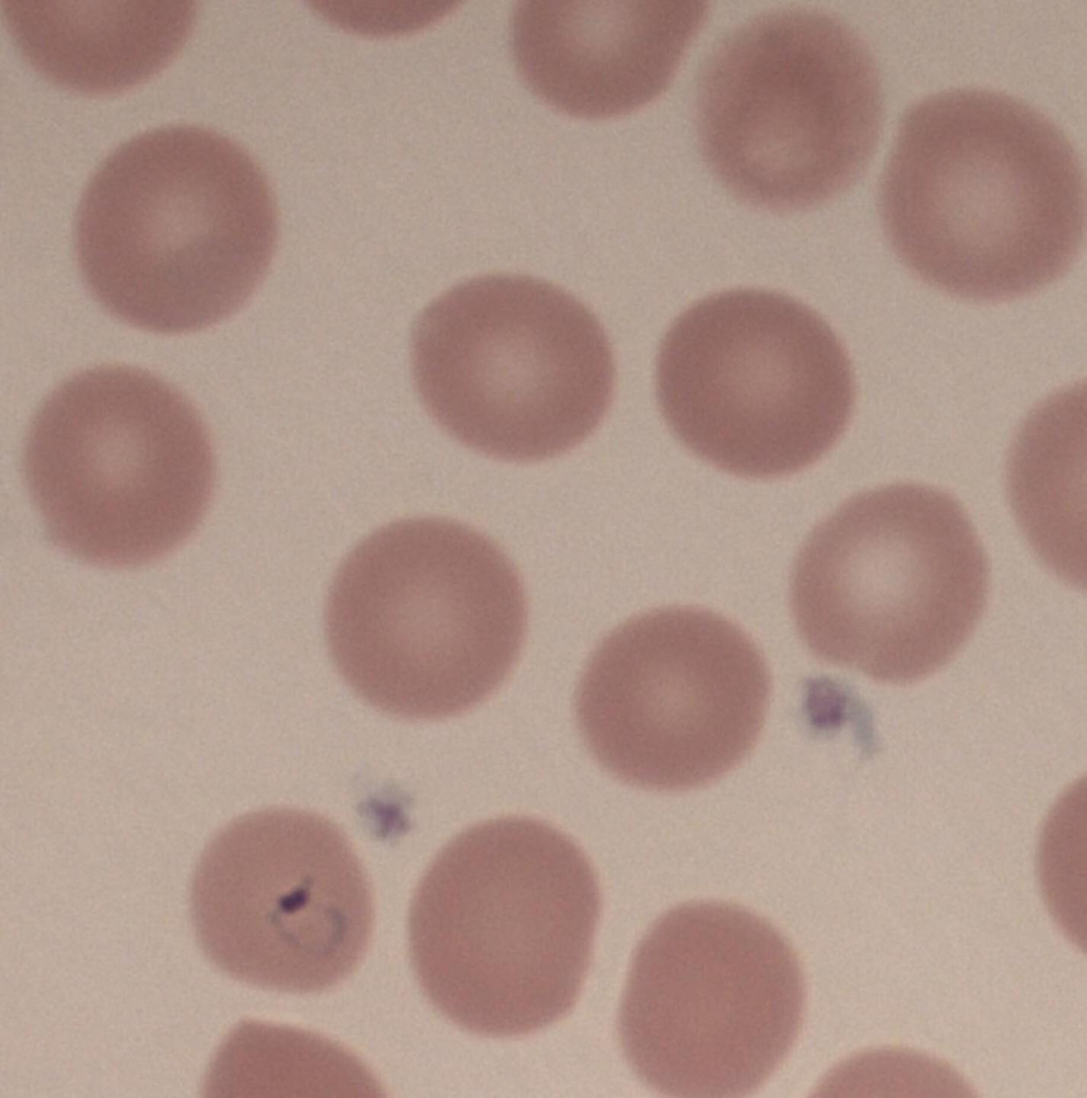Infected: (193, 803, 377, 993)
Uninfected: (411, 816, 606, 1034), (886, 95, 1087, 297), (612, 897, 813, 1098), (787, 481, 983, 685), (30, 362, 220, 571), (320, 522, 525, 715), (576, 603, 777, 793), (81, 133, 274, 330), (665, 288, 853, 488), (698, 14, 885, 212), (419, 280, 614, 459)
